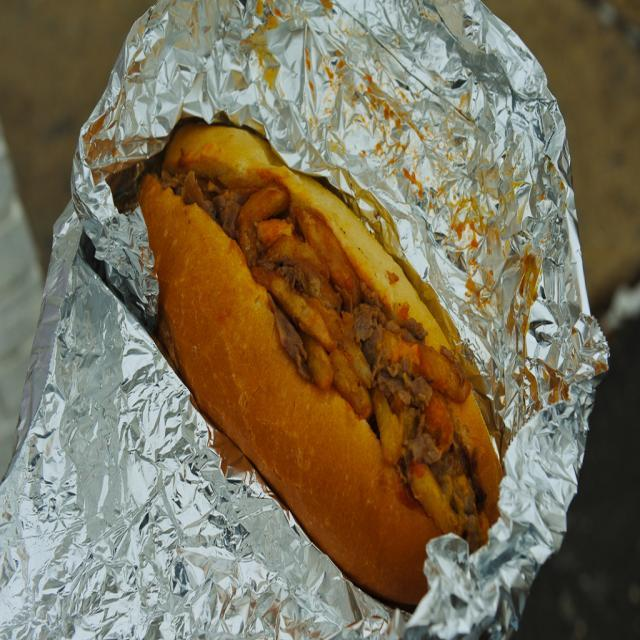Hot dog: (125, 84, 516, 614)
